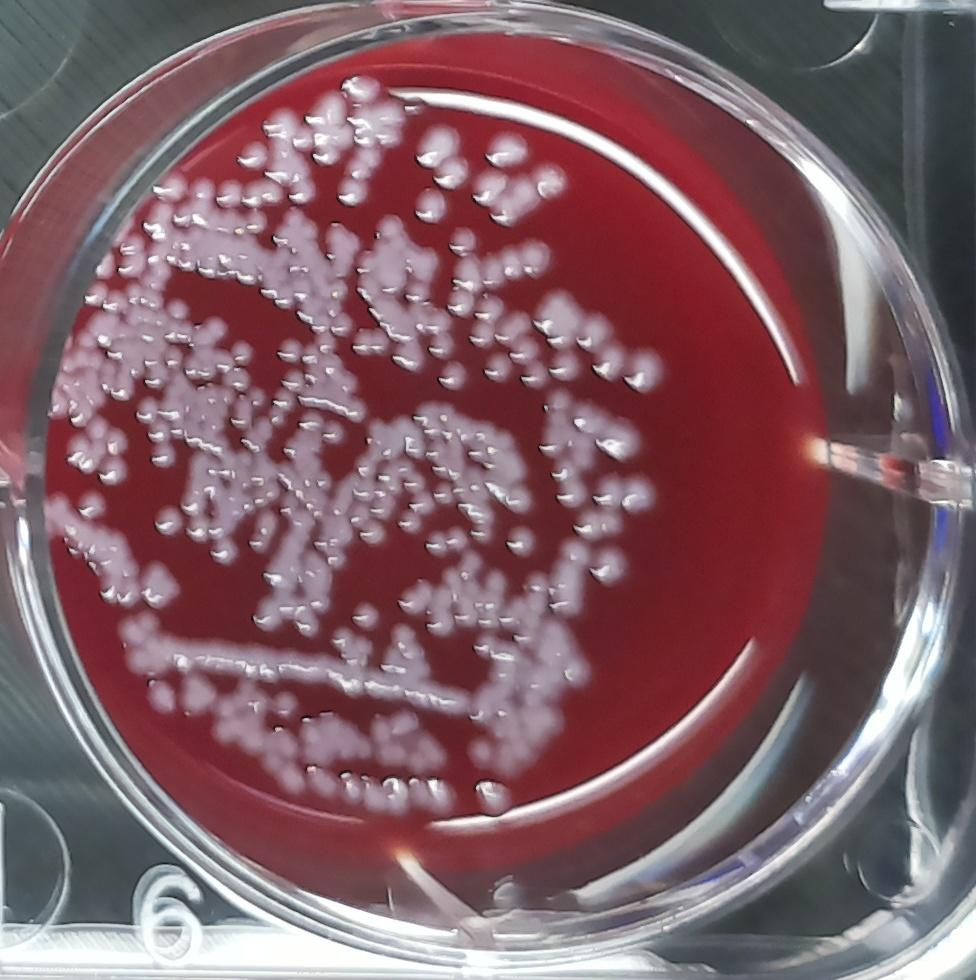smarcescens: (626, 340, 674, 397), (411, 122, 463, 171), (587, 540, 637, 590), (481, 126, 532, 171), (620, 471, 663, 521), (530, 157, 572, 206), (517, 234, 556, 281), (410, 182, 450, 226), (503, 521, 542, 562), (548, 346, 585, 386)
